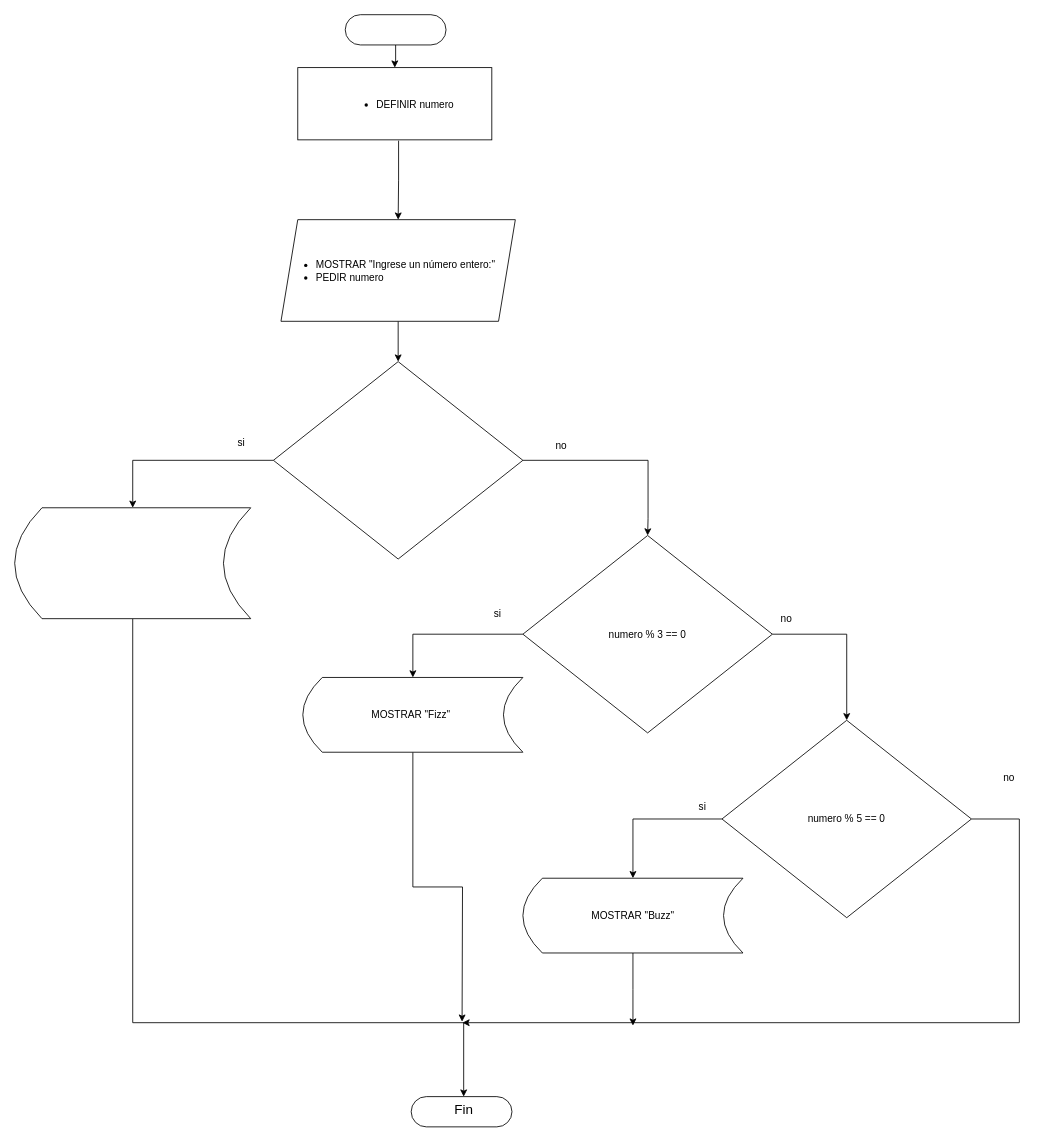
Image size: 1049x1142. Some labels were removed from this diagram. Here are the shapes that lost their labels. From the top down, the box of each, then its label:
(344, 14, 446, 45): Inicio
(273, 361, 523, 559): numero % 3 == 0 y numero % 5 == 0
(14, 507, 251, 619): MOSTRAR "FizzBuzz"
